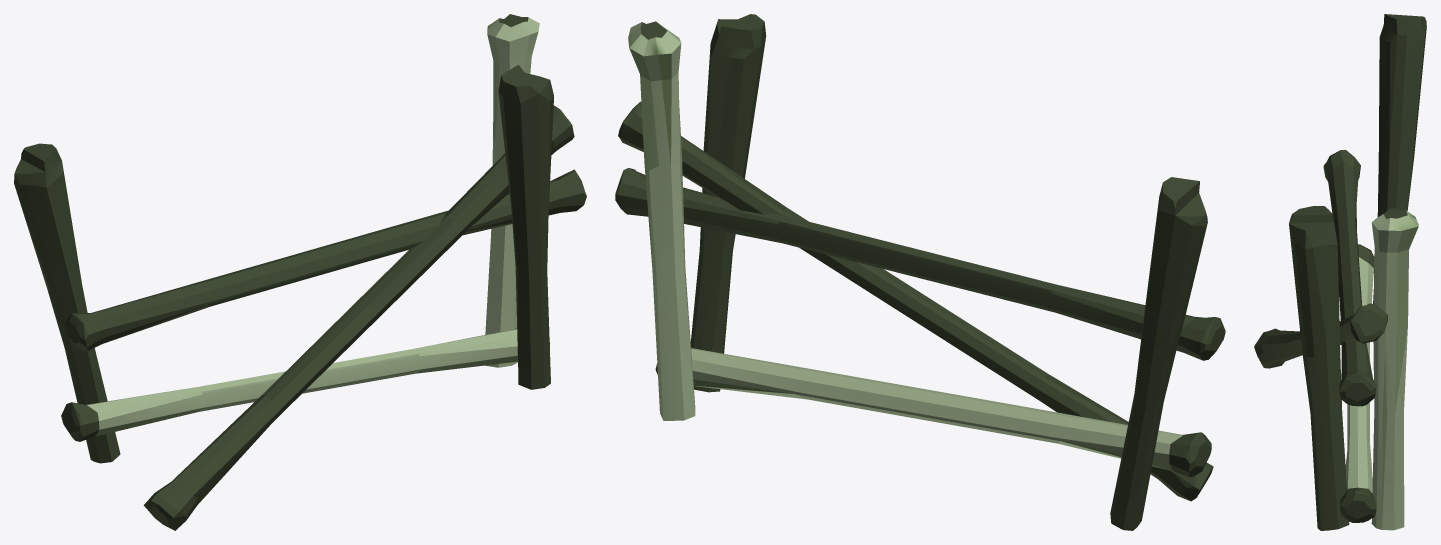
File: EA_Fence_02d.glb
3 renders of one model, left to right at view 1: azimuth 30°, elevation 25°; view 2: azimuth 150°, elevation 25°; view 3: azimuth 270°, elevation 25°, orthographic. The views are drawn at different scales.
Parts seen in each view (by area): view 1: EA_Fence_02d; view 2: EA_Fence_02d; view 3: EA_Fence_02d.
Part boxes in pixels (x1,y1,x2,y2): EA_Fence_02d: [14, 14, 586, 530]; EA_Fence_02d: [615, 14, 1225, 530]; EA_Fence_02d: [1254, 14, 1426, 530].
Bounding box in the file's own units: 1.53 × 0.9852 × 0.4477.
1 material, 1 textured.
